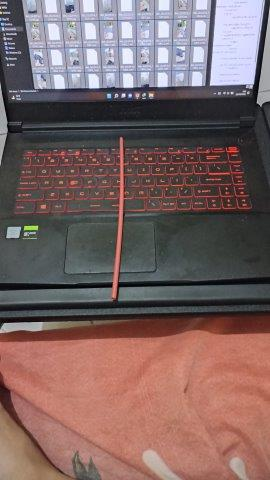sedotan: (112, 137, 124, 298)
